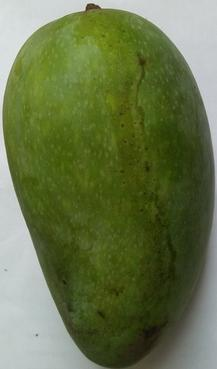Unripe: (0, 1, 217, 369)
